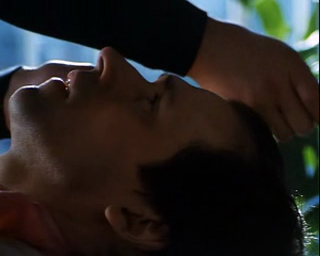cu: (1, 1, 319, 256)
face: (7, 47, 221, 155)
person: (1, 47, 310, 256)
